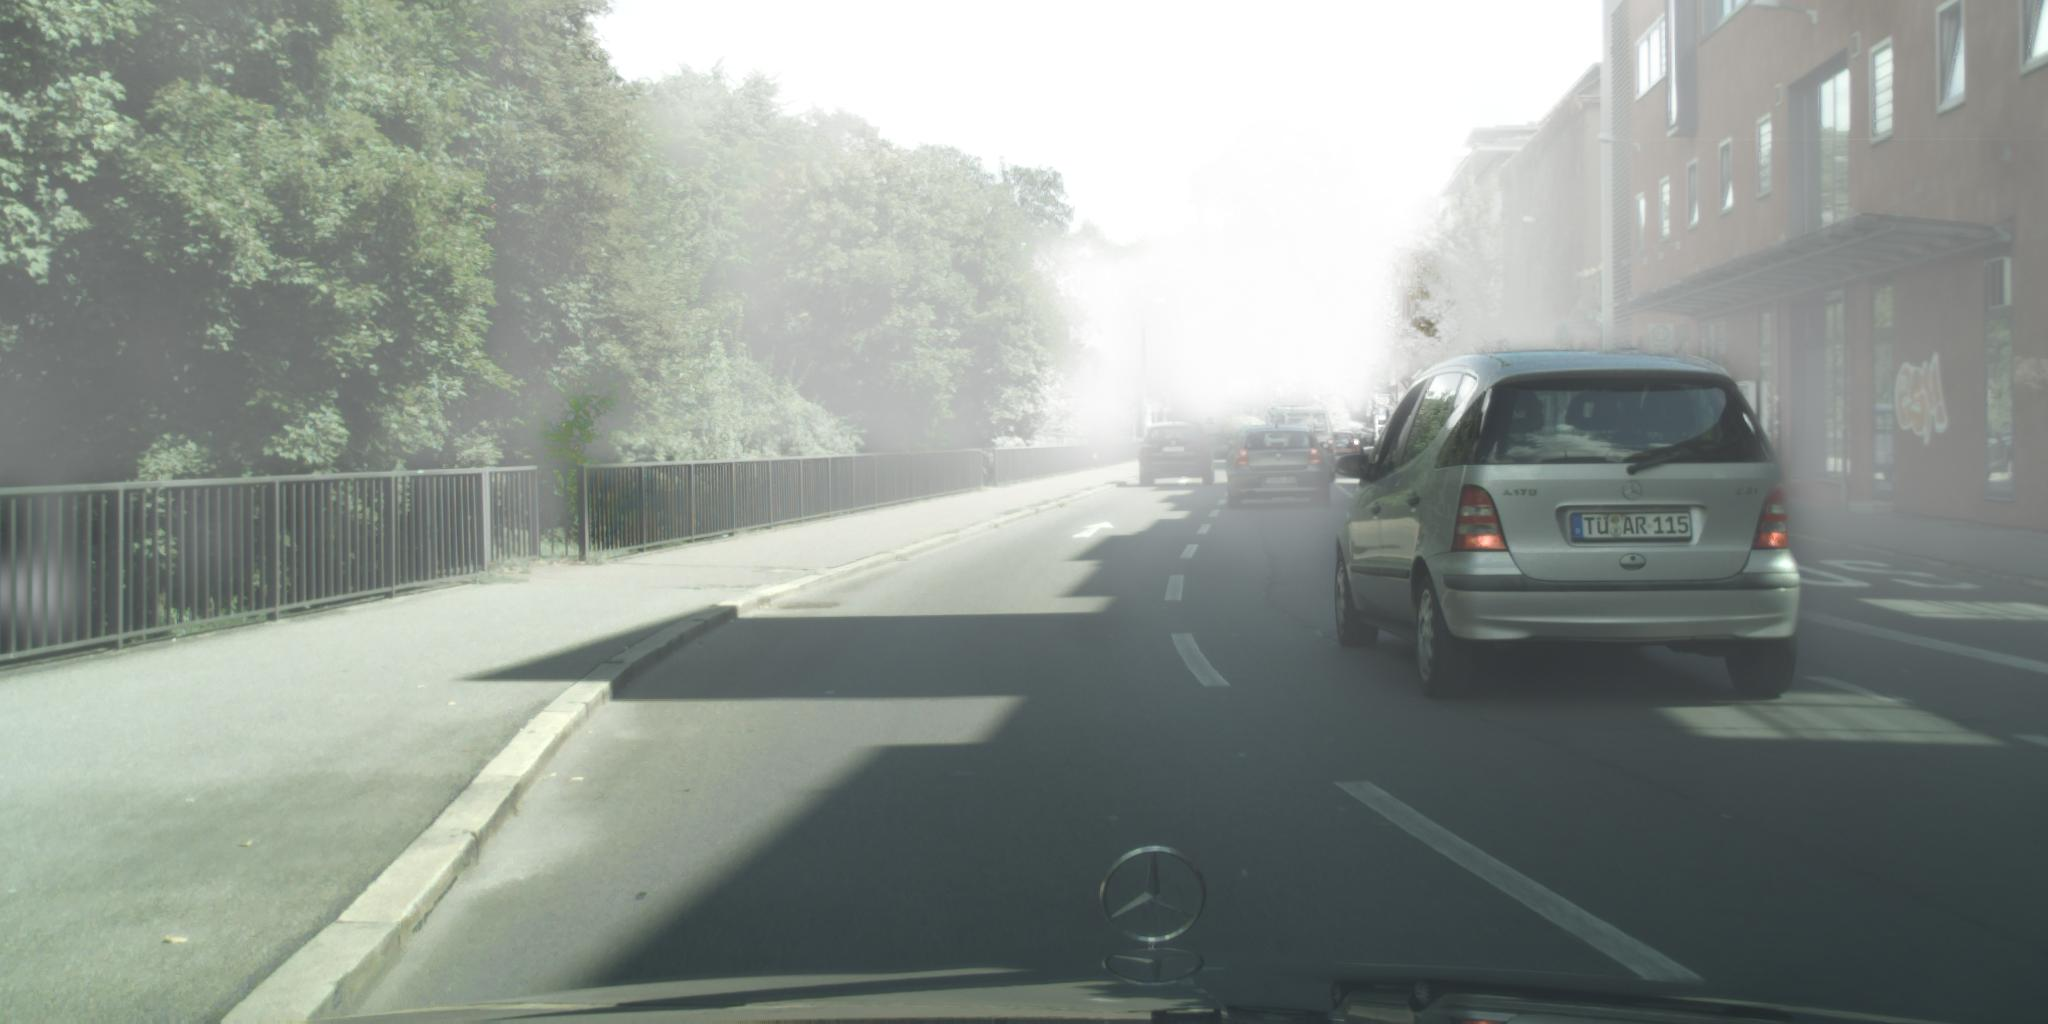car: (1328, 353, 1802, 700), (1212, 426, 1334, 509), (1264, 408, 1339, 487), (1140, 421, 1213, 488), (1330, 432, 1364, 460), (1204, 434, 1240, 460), (1347, 427, 1377, 447)
